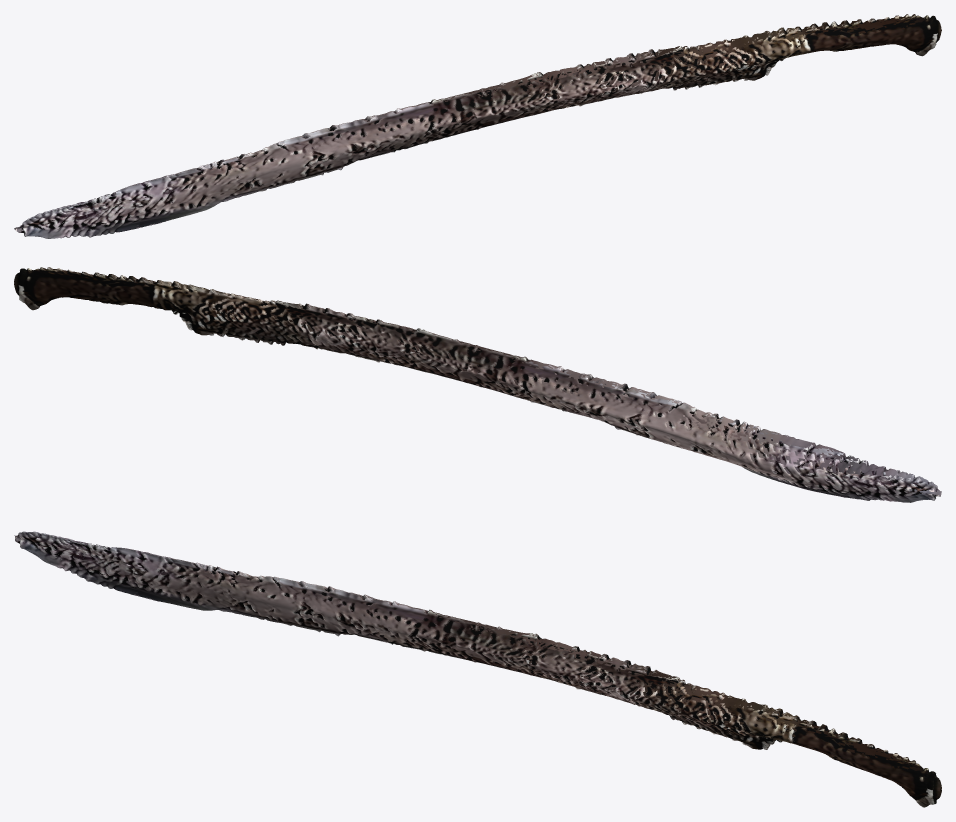
Rendered from kfl-2266.glb.
The picture shows the model from 3 angles, top to bottom: view 1: azimuth 30°, elevation 25°; view 2: azimuth 150°, elevation 25°; view 3: azimuth 330°, elevation 25°; orthographic projection.
Parts seen in each view (by area): view 1: kfl-2266; view 2: kfl-2266; view 3: kfl-2266.
Boxes of the visible parts, x1,y1,x2,y2 form: kfl-2266: [14, 14, 941, 238]; kfl-2266: [14, 267, 941, 502]; kfl-2266: [14, 531, 941, 807].
Bounding box in the file's own units: 0.9837 × 0.0784 × 0.053.
Materials: 4 (4 with a texture image).
